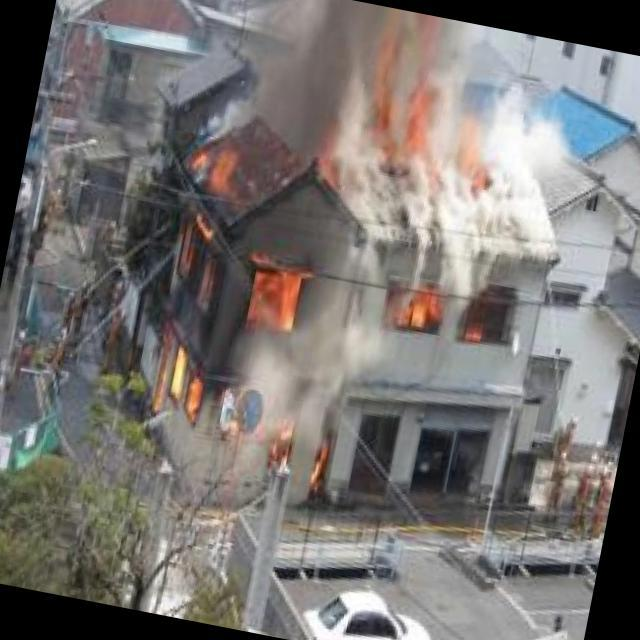Fire: (143, 129, 344, 477), (359, 43, 501, 182), (385, 280, 491, 355)
